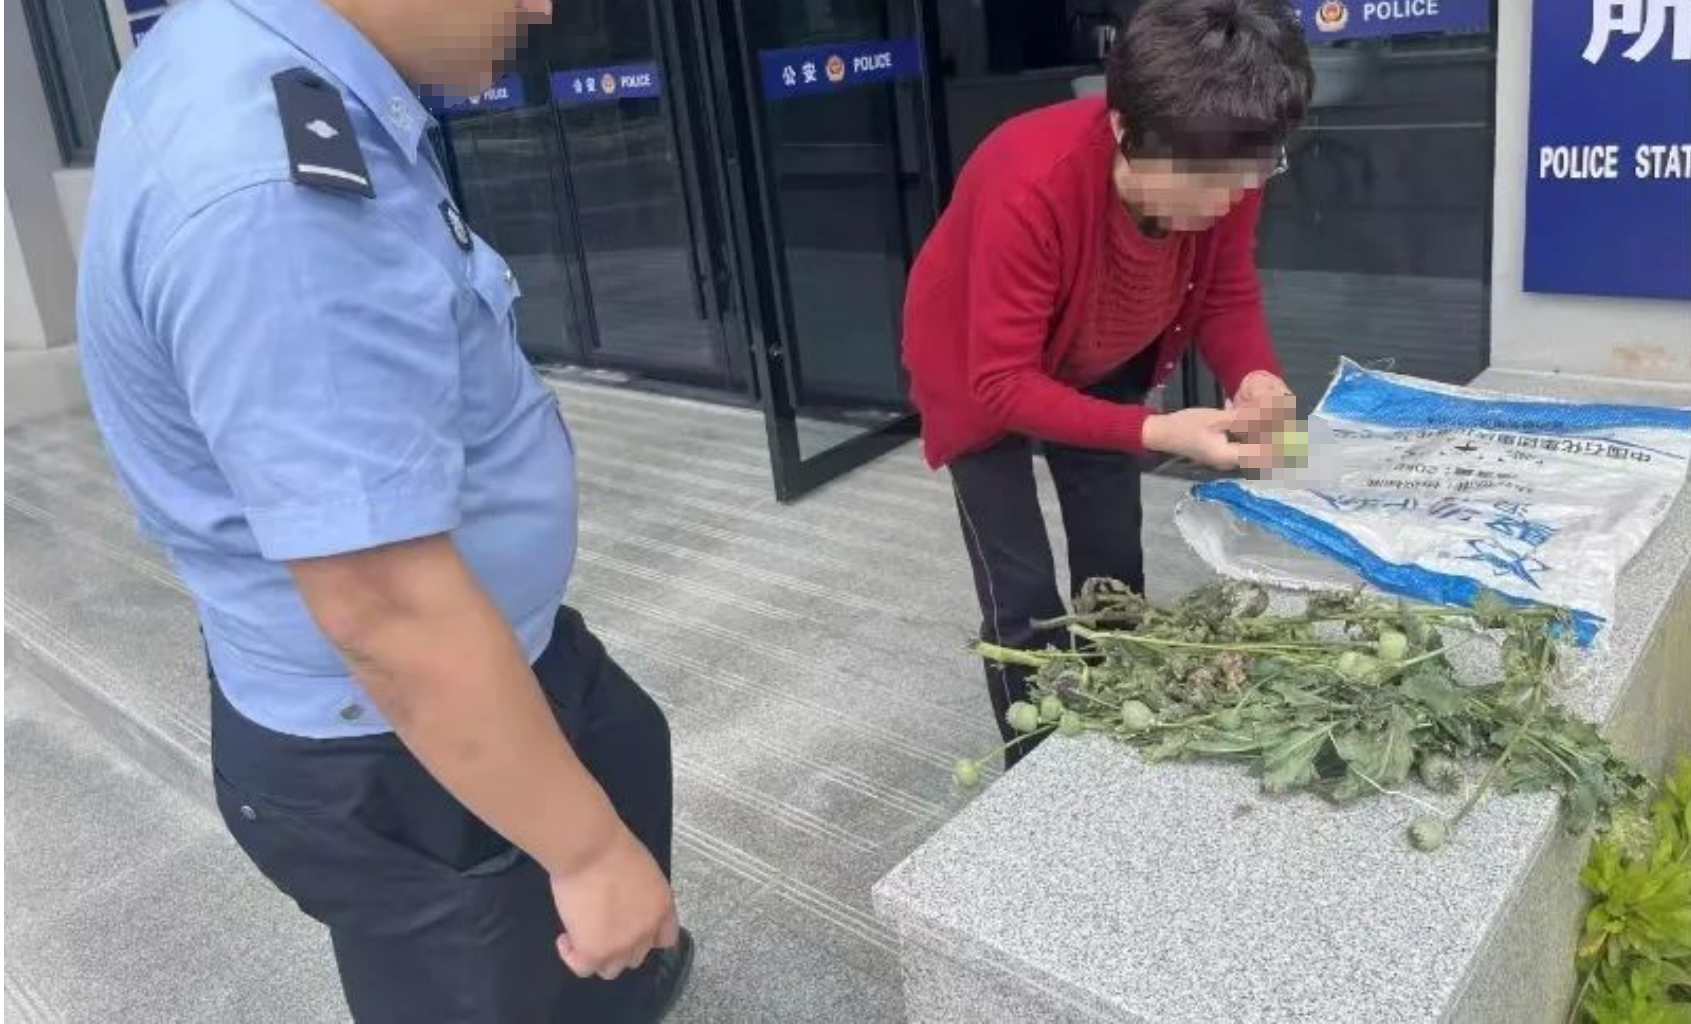Poppy: (929, 513, 1638, 875)
